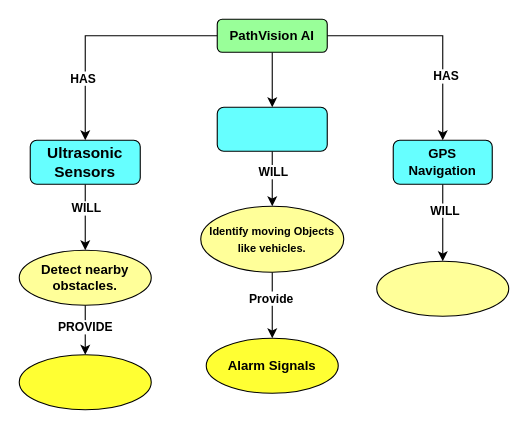
The diagram is 528 pixels wide and 438 high, and some of its shapes have lost their labels. The shapes that lost their labels are listed below. From the top down, each one's box as (x1, y1, x2, y2) in pixels, then its label:
(216, 106, 327, 151): Camera + AI Model
(376, 260, 509, 316): Path and Direction Support.
(18, 354, 151, 410): Instant Vibrations.
